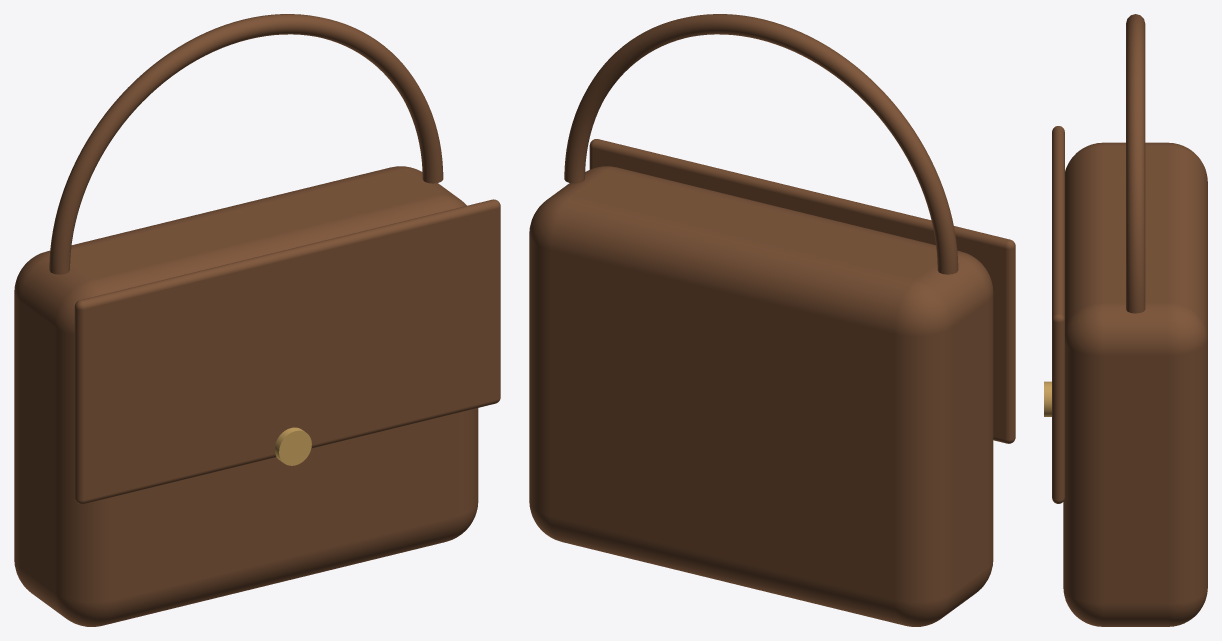
The picture shows the model from 3 angles, left to right: view 1: azimuth 30°, elevation 25°; view 2: azimuth 150°, elevation 25°; view 3: azimuth 270°, elevation 25°; orthographic projection. The views are drawn at different scales.
Parts seen in each view (by area): view 1: besace-provisoire; view 2: besace-provisoire; view 3: besace-provisoire.
Boxes of the visible parts, bbox=[...] form: besace-provisoire: bbox=[14, 14, 500, 626]; besace-provisoire: bbox=[529, 14, 1015, 626]; besace-provisoire: bbox=[1044, 14, 1207, 626].
Bounding box in the file's own units: 2.84 × 3.51 × 1.02.
